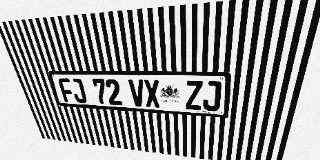2: (104, 79, 122, 105)
7: (91, 79, 109, 105)
F: (57, 78, 76, 103)
J: (202, 81, 222, 111), (69, 78, 88, 103)
V: (128, 79, 146, 107)
X: (143, 80, 161, 108)
Z: (185, 80, 203, 110)
